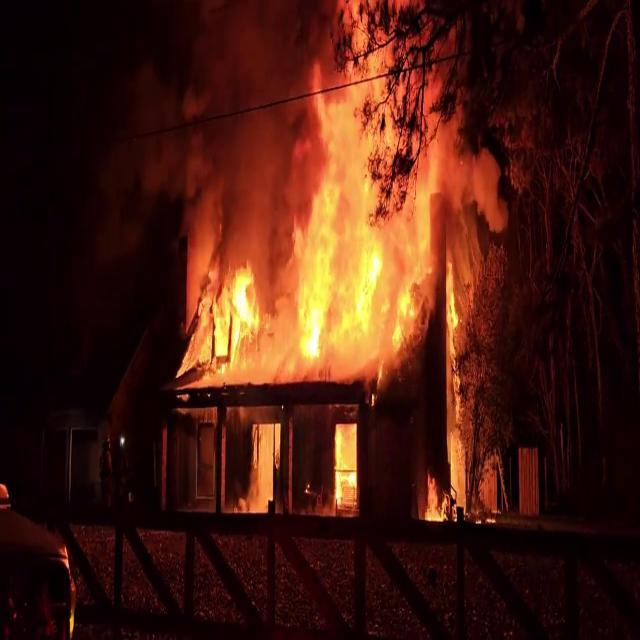Fire: (192, 56, 498, 390)
Smoke: (130, 1, 320, 196)
